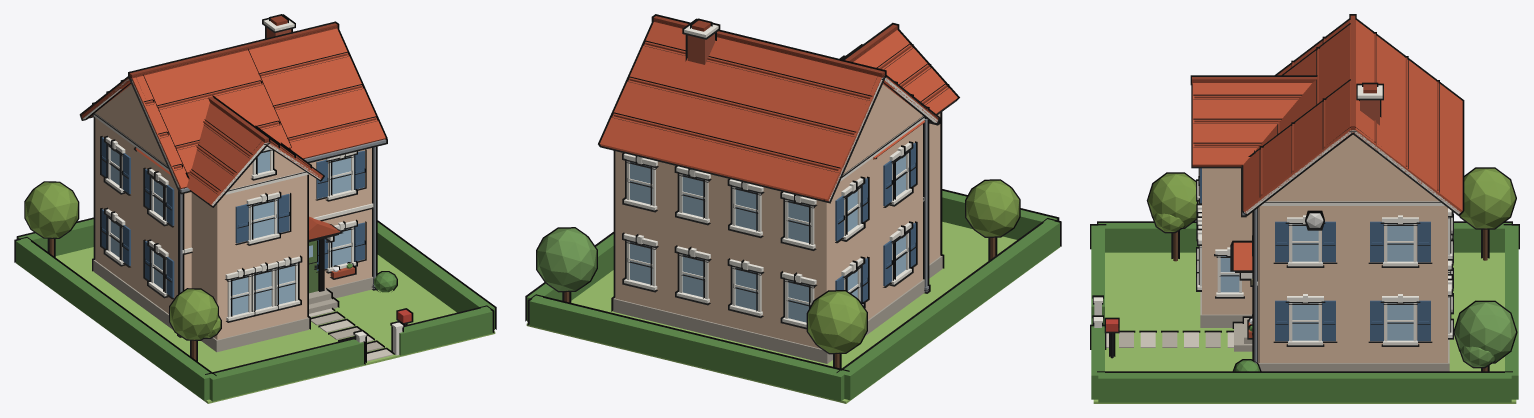
The model's file is MustakilEv_avrupa_3_2.fbx.
The picture shows the model from 3 angles, left to right: view 1: azimuth 30°, elevation 25°; view 2: azimuth 150°, elevation 25°; view 3: azimuth 270°, elevation 25°; orthographic projection. The views are drawn at different scales.
Visible parts, largest first — view 1: MustakilEv_avrupa_3_2; view 2: MustakilEv_avrupa_3_2; view 3: MustakilEv_avrupa_3_2.
Boxes of the visible parts, x1,y1,x2,y2 form: MustakilEv_avrupa_3_2: (14,14,496,403); MustakilEv_avrupa_3_2: (525,14,1061,403); MustakilEv_avrupa_3_2: (1090,14,1519,403).
Size of the model in its own units: 12.01 by 9.56 by 13.82.
